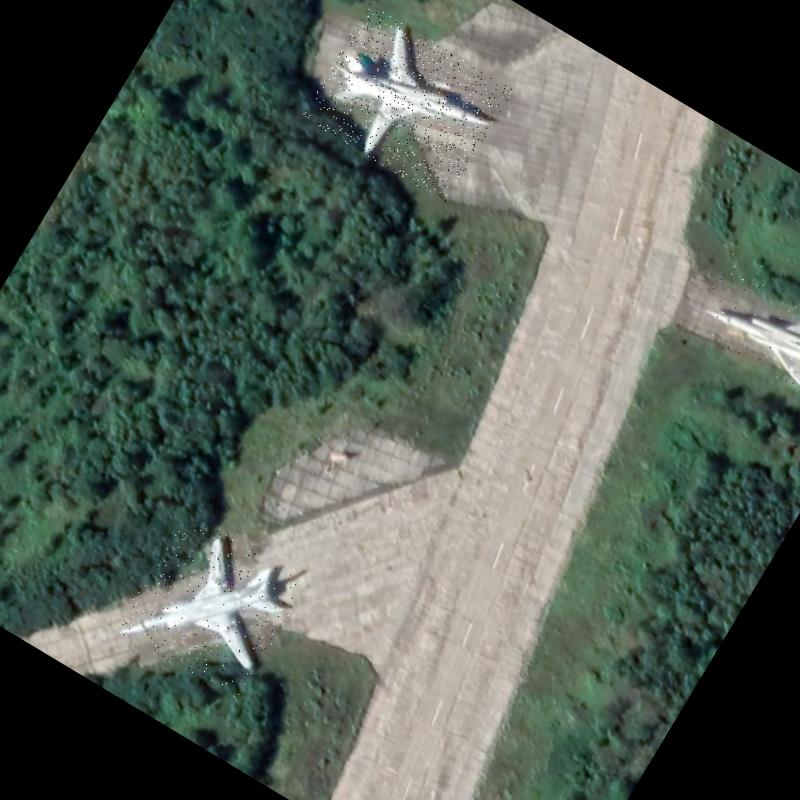A12: (300, 3, 513, 203), (114, 511, 307, 702), (686, 247, 800, 415)
